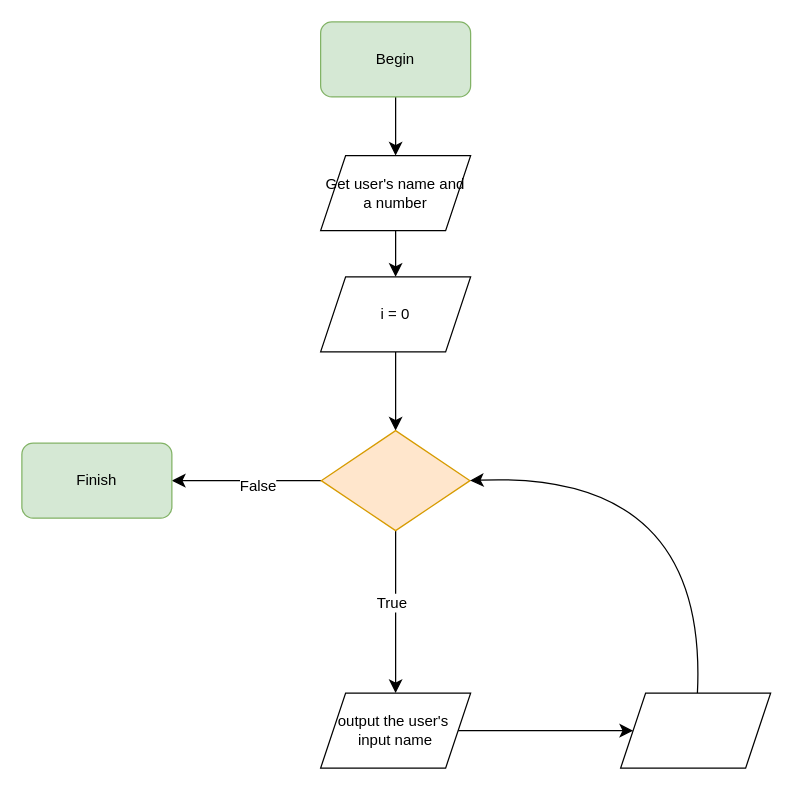
Some shapes in this 793 by 790 pixel diagram are drawn without their labels. Here are the shapes that lost their labels. From the top down, the box of each, then its label:
(320, 429, 470, 531): i < user's input number
(619, 692, 771, 768): i += 1
